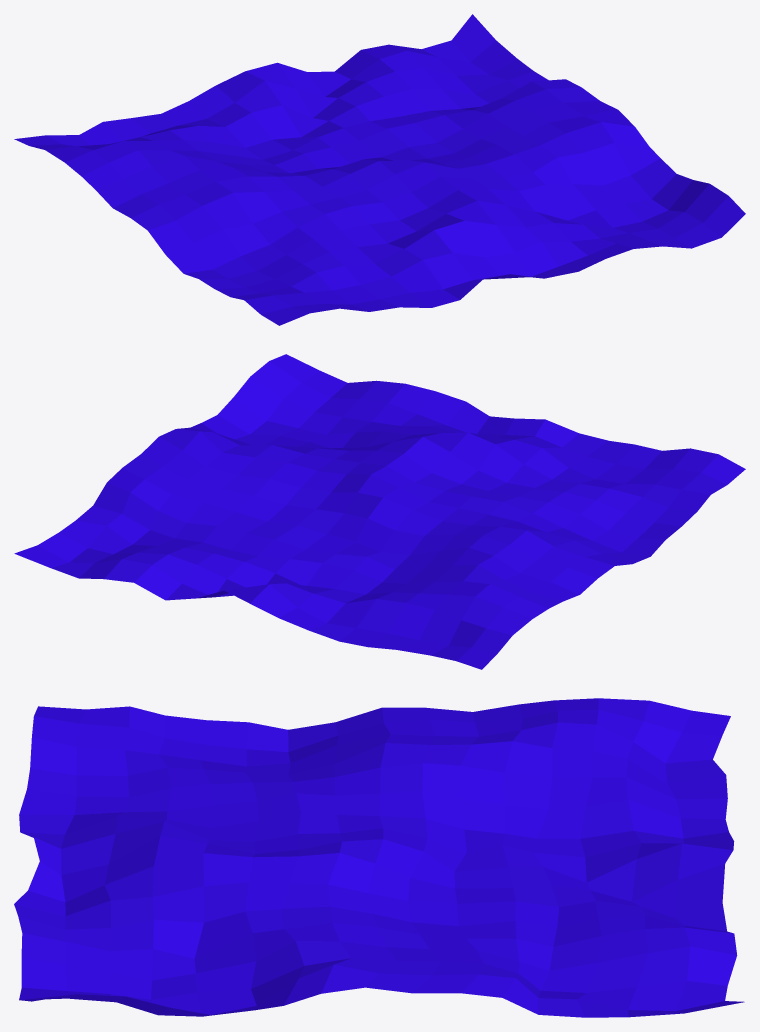
3 renders of one model, top to bottom at view 1: azimuth 30°, elevation 25°; view 2: azimuth 150°, elevation 25°; view 3: azimuth 270°, elevation 25°, orthographic. The views are drawn at different scales.
Parts seen in each view (by area): view 1: Plane; view 2: Plane; view 3: Plane.
Part boxes in pixels (x1=…): Plane: x1=14, y1=14, x2=745, y2=325; Plane: x1=14, y1=354, x2=745, y2=669; Plane: x1=14, y1=698, x2=744, y2=1017.
Bounding box in the file's own units: 24.02 × 2.1 × 25.11.
